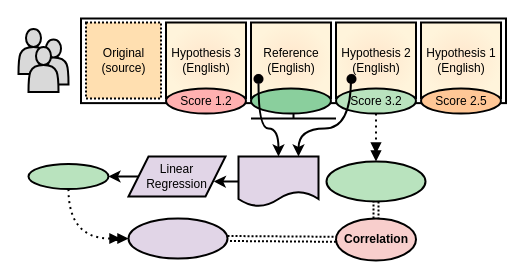
The diagram is 524 pixels wide and 278 high, and some of its shapes have lost their labels. Here are the shapes that lost their labels. From the top down, the centre of each, then its label:
(x=291, y=100): Score 3.7
(x=68, y=176): Score 3.5
(x=278, y=181): MeanPoet features
(x=375, y=181): Human score
(x=177, y=238): MeanPoet score
